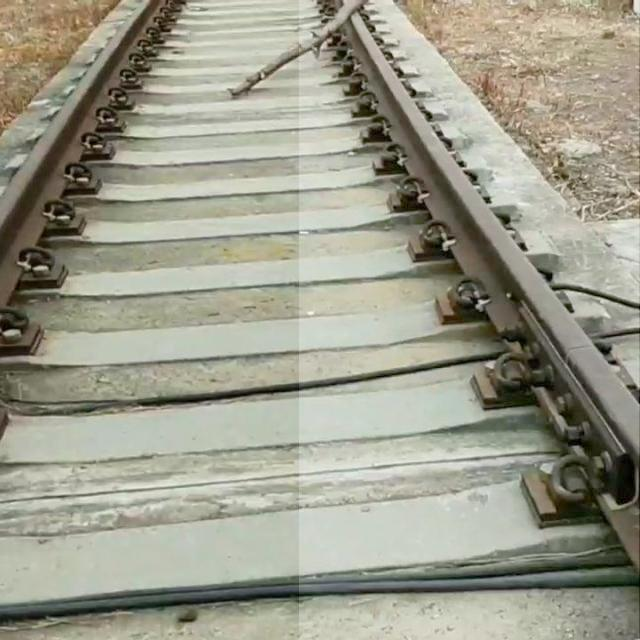rail: (300, 1, 640, 640), (2, 1, 196, 459)
